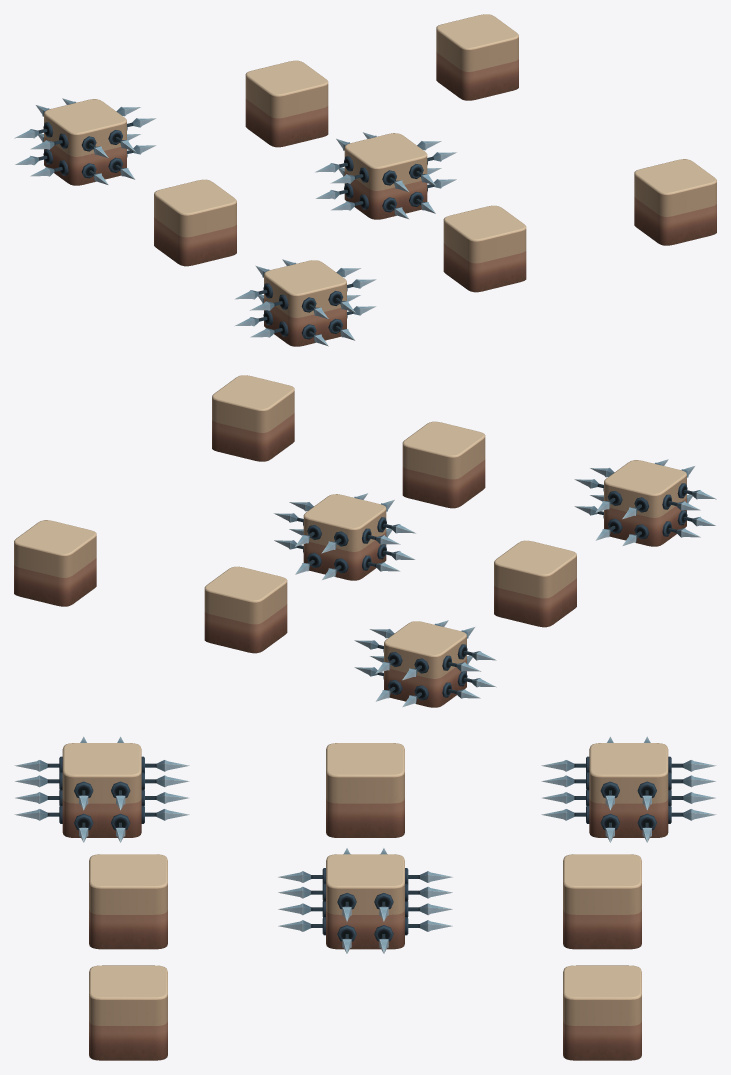
The model's file is Props.fbx.
3 views of the same model, one above another, from view 1: azimuth 30°, elevation 25°; view 2: azimuth 150°, elevation 25°; view 3: azimuth 270°, elevation 25° (orthographic). The views are drawn at different scales.
Parts seen in each view (by area): view 1: Box01 (×8); view 2: Box01 (×8); view 3: Box01 (×8).
Boxes of the visible parts, x1=… form: Box01 (×8): x1=44, y1=14, x2=716, y2=346; Box01 (×8): x1=14, y1=375, x2=686, y2=707; Box01 (×8): x1=62, y1=743, x2=668, y2=1060.
Size of the model in its own units: 24.85 by 2.62 by 26.7.
